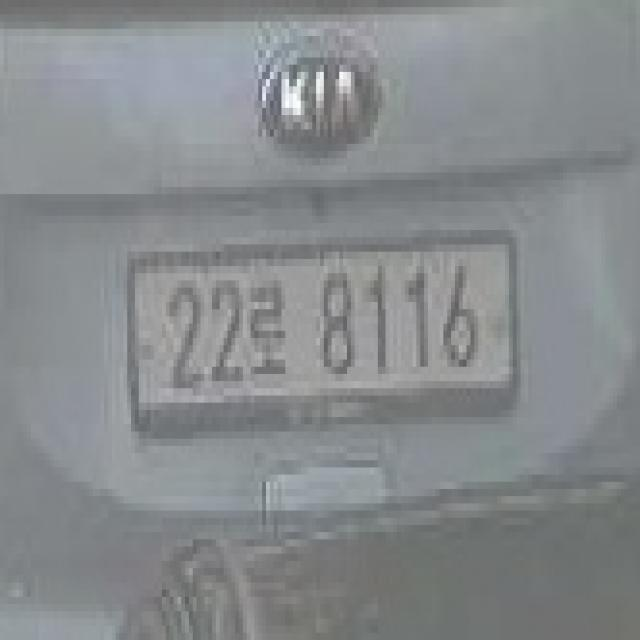1: (361, 257, 393, 380), (402, 260, 434, 379)
2: (161, 278, 204, 394), (209, 269, 247, 387)
6: (438, 255, 485, 383)
8: (317, 262, 358, 388)
license_plate: (128, 236, 513, 414)
lo: (249, 269, 292, 387)
